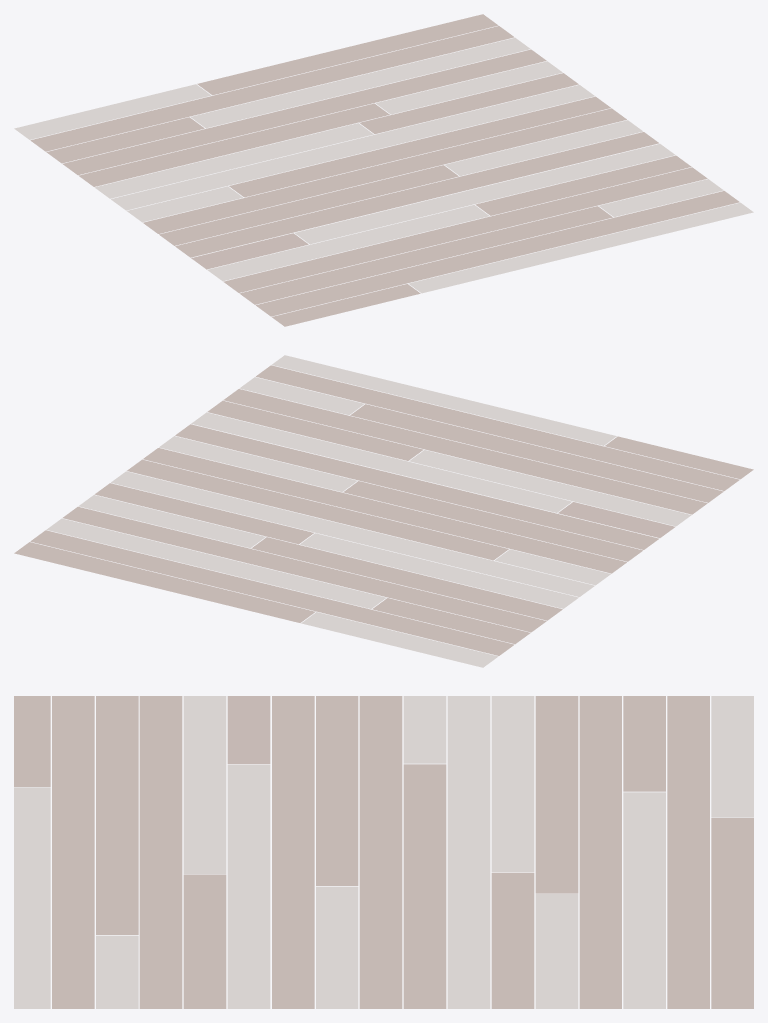
File: floor_017.glb
3 renders of one model, top to bottom at view 1: azimuth 30°, elevation 25°; view 2: azimuth 150°, elevation 25°; view 3: azimuth 270°, elevation 25°, orthographic. The views are drawn at different scales.
Parts seen in each view (by area): view 1: floor_017; view 2: floor_017; view 3: floor_017.
Boxes of the visible parts, x1,y1,x2,y2 form: floor_017: (14,14,753,326); floor_017: (14,355,753,667); floor_017: (14,696,753,1008).
Size of the model in its own units: 4 by 1.92e-06 by 4.
1 material, 1 textured.
